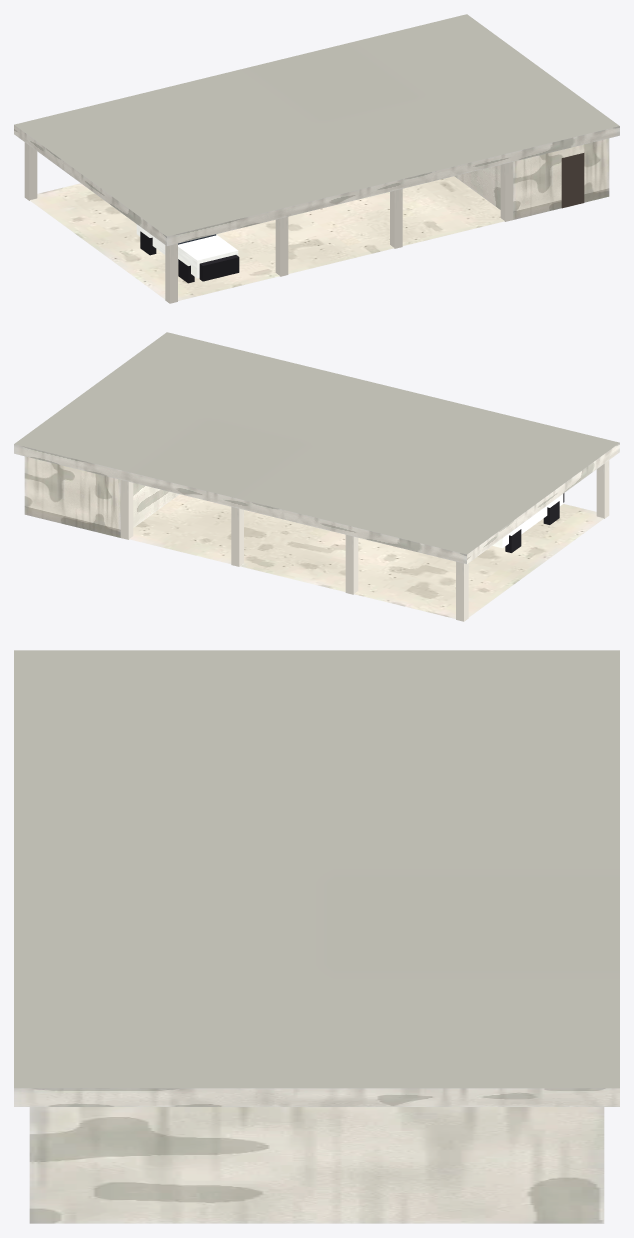
File: garage.glb
3 views of the same model, one above another, from view 1: azimuth 30°, elevation 25°; view 2: azimuth 150°, elevation 25°; view 3: azimuth 270°, elevation 25° (orthographic). The views are drawn at different scales.
Parts seen in each view (by area): view 1: Garage; view 2: Garage; view 3: Garage.
Boxes of the visible parts, x1=… form: Garage: x1=14, y1=14, x2=619, y2=303; Garage: x1=14, y1=332, x2=619, y2=621; Garage: x1=14, y1=650, x2=619, y2=1223.
Bounding box in the file's own units: 19.82 × 3 × 11.59.
Materials: 1 (1 with a texture image).
